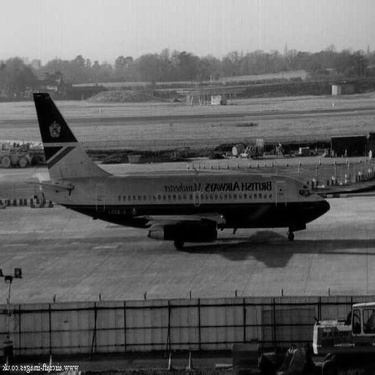airplane: (19, 86, 332, 251)
